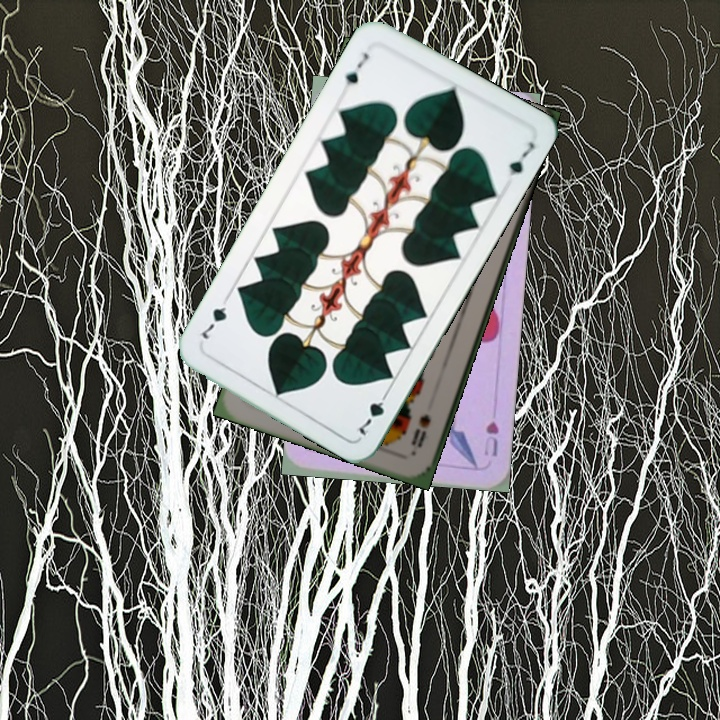G7: (354, 386, 392, 438), (338, 48, 372, 94)
HU: (480, 417, 501, 459)
S8: (407, 410, 433, 451)
